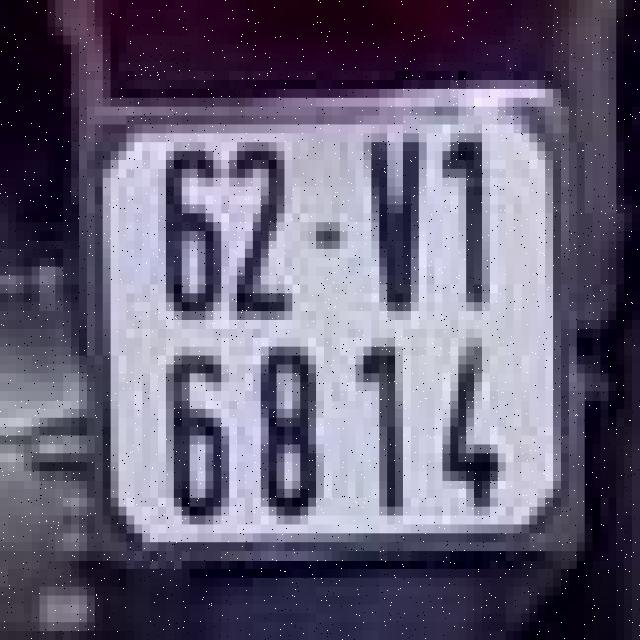1: (442, 107, 498, 320), (352, 333, 407, 529)
2: (221, 138, 308, 324)
4: (434, 329, 506, 533)
6: (142, 142, 229, 329), (150, 338, 237, 524)
8: (253, 324, 332, 538)
V: (356, 124, 426, 320)
